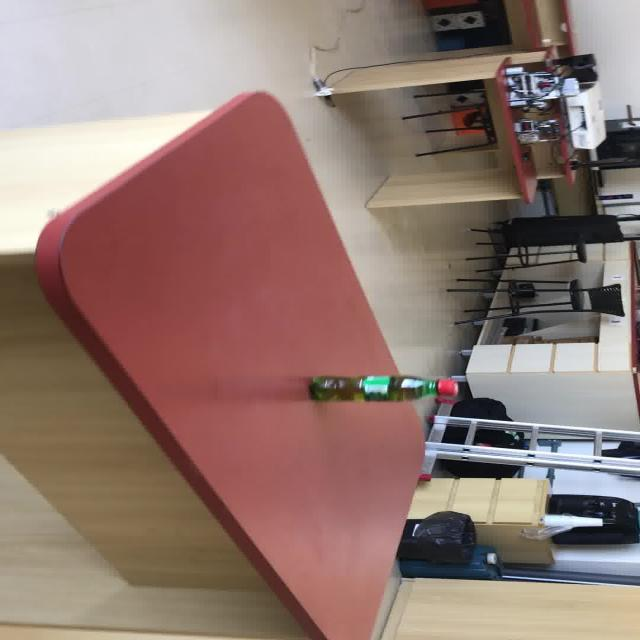guarana: (31, 89, 454, 638), (306, 374, 458, 402)
